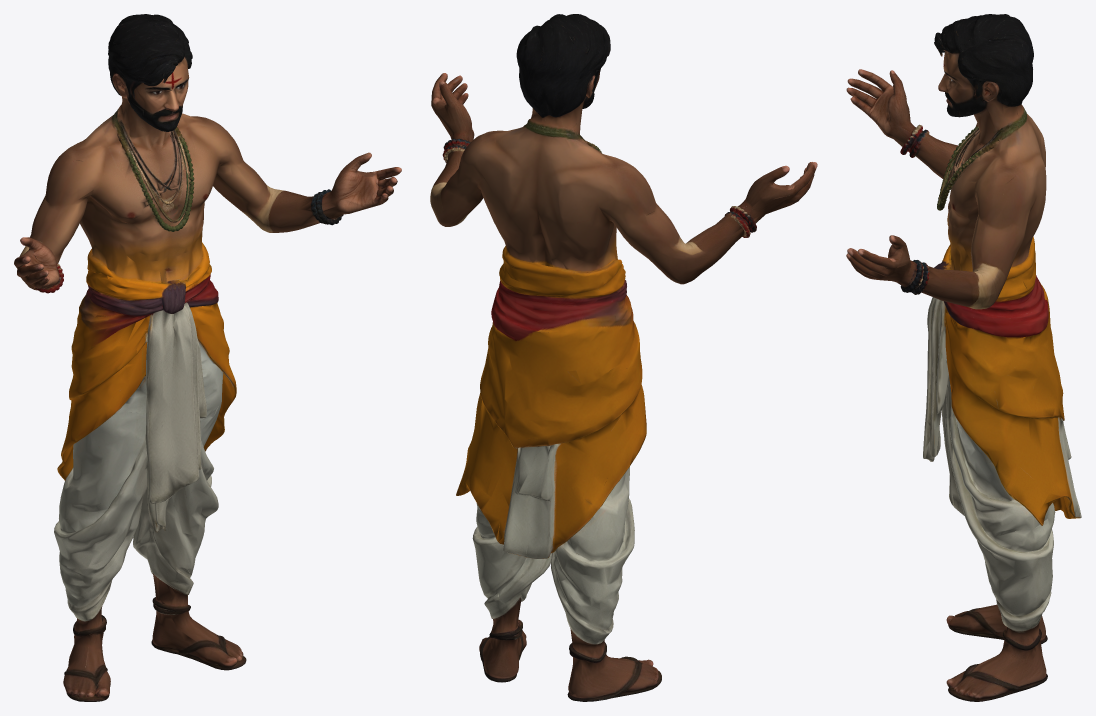
The model's file is prady-a-realistic-young-indian-man-in-hi-cmuyh89r-source-a2-glb.glb.
3 views of the same model, side by side, from view 1: azimuth 30°, elevation 25°; view 2: azimuth 150°, elevation 25°; view 3: azimuth 270°, elevation 25° (orthographic).
Parts seen in each view (by area): view 1: Mesh_0; view 2: Mesh_0; view 3: Mesh_0.
Part boxes in pixels (x1,y1,x2,y2): Mesh_0: (14,14,401,701); Mesh_0: (430,14,817,701); Mesh_0: (846,14,1081,701).
Bounding box in the file's own units: 1.03 × 1.7 × 0.5616.
1 material, 1 textured.
